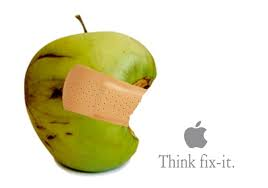damaged_apple: (26, 37, 158, 173)
